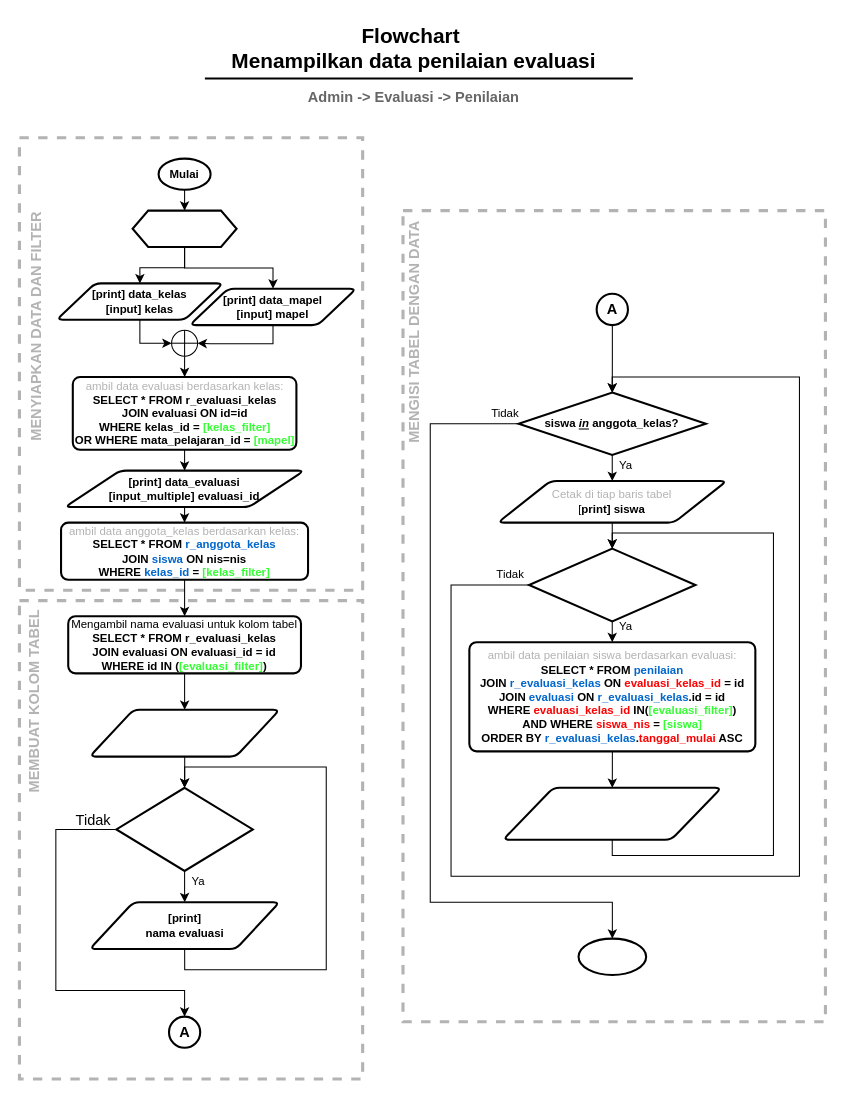
Some shapes in this 844 by 1098 pixel diagram are drawn without their labels. Each missing label, with the box of its shape:
[print] kolom No, NIS, Nama dan Jenis Kelamin: (88, 708, 280, 757)
Cetak di tiap kolom penilaian dan di setiap siswa [ print] nilai: (501, 786, 722, 840)
data_kelas: (131, 209, 237, 248)
evaluasi in data_evaluasi ?: (115, 786, 253, 872)
evaluasi_id in evaluasi_filter?: (527, 547, 696, 622)
selesai: (577, 937, 647, 976)
